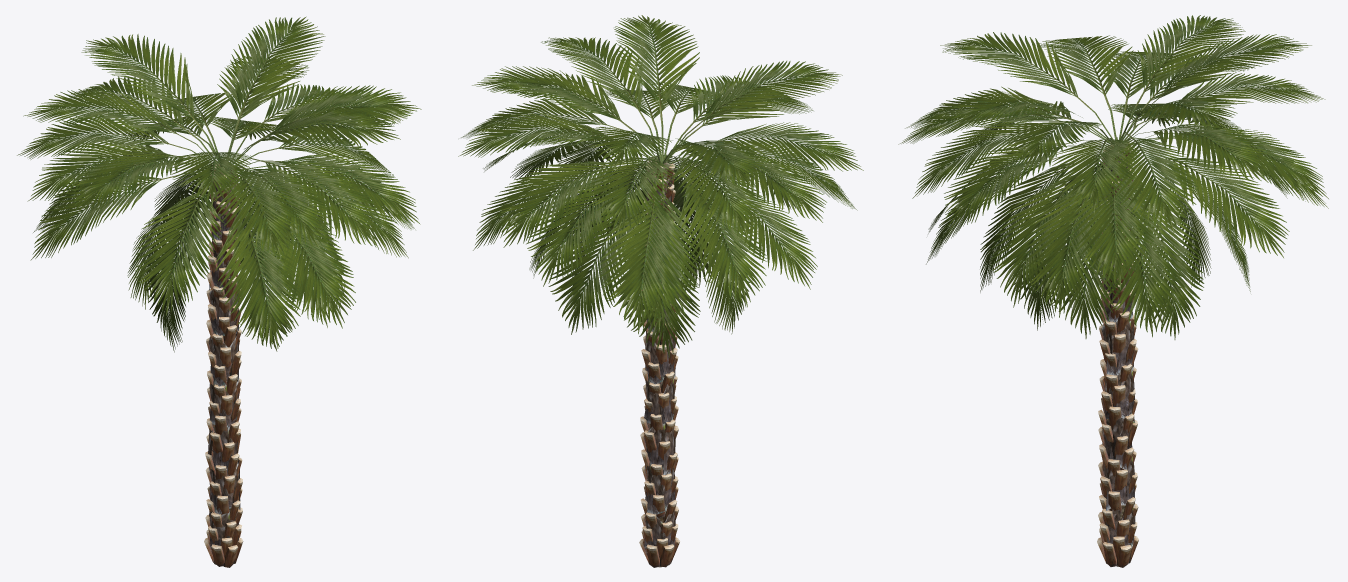
Rendered from tree1(Bugado).fbx.
The picture shows the model from 3 angles, left to right: view 1: azimuth 30°, elevation 25°; view 2: azimuth 150°, elevation 25°; view 3: azimuth 270°, elevation 25°; orthographic projection. The views are drawn at different scales.
Parts seen in each view (by area): view 1: Palm4; view 2: Palm4; view 3: Palm4.
Boxes of the visible parts, <box> form: Palm4: <box>17,16,421,567</box>; Palm4: <box>458,15,863,567</box>; Palm4: <box>898,15,1328,567</box>.
Bounding box in the file's own units: 575 × 734 × 572.
